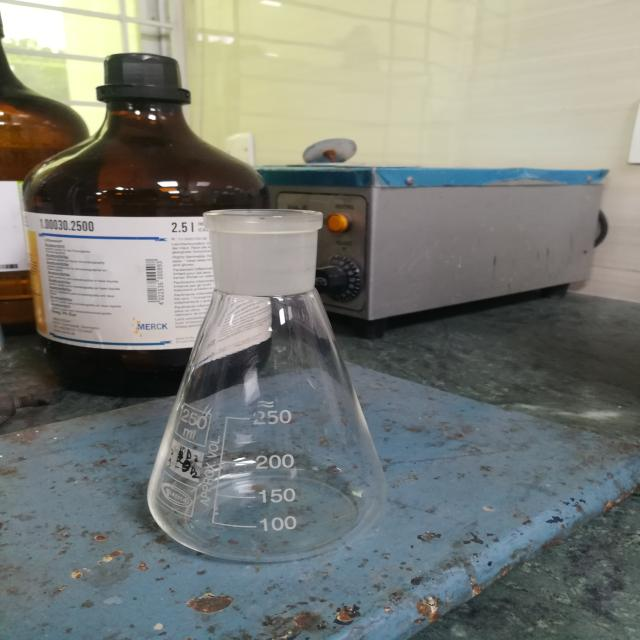Conical_Flask: (100, 176, 452, 590)
